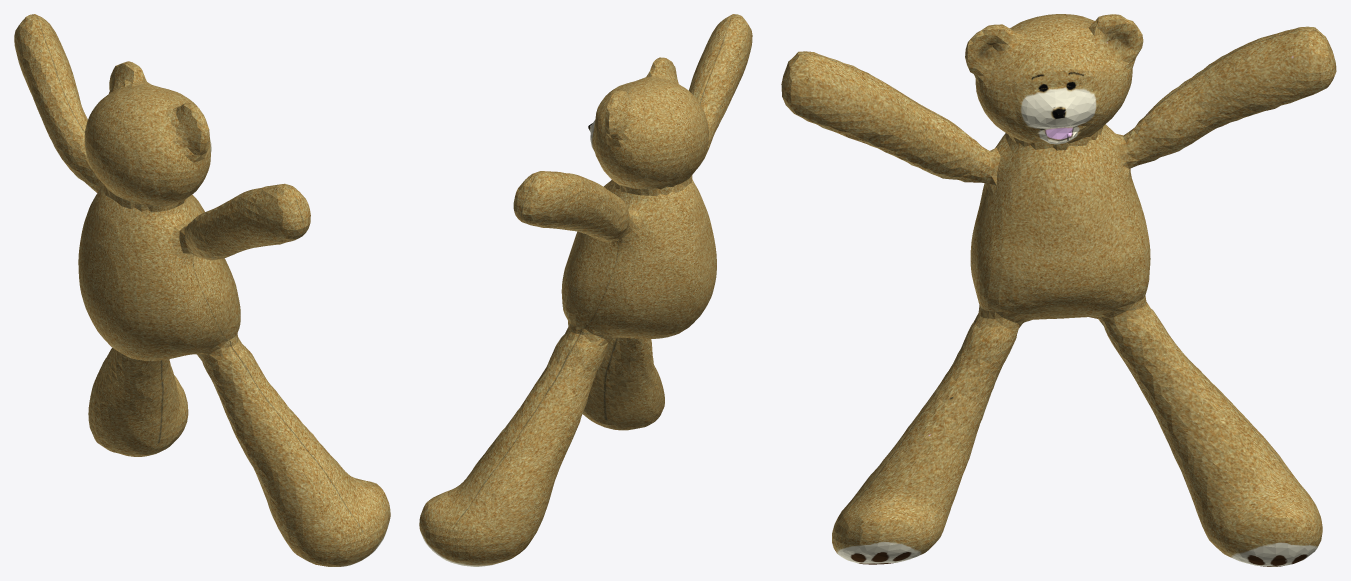
The model's file is teddy_aug_8.obj.
3 renders of one model, left to right at view 1: azimuth 30°, elevation 25°; view 2: azimuth 150°, elevation 25°; view 3: azimuth 270°, elevation 25°, orthographic. The views are drawn at different scales.
Size of the model in its own units: 47.34 by 93.89 by 93.78.
1 material, 1 textured.
